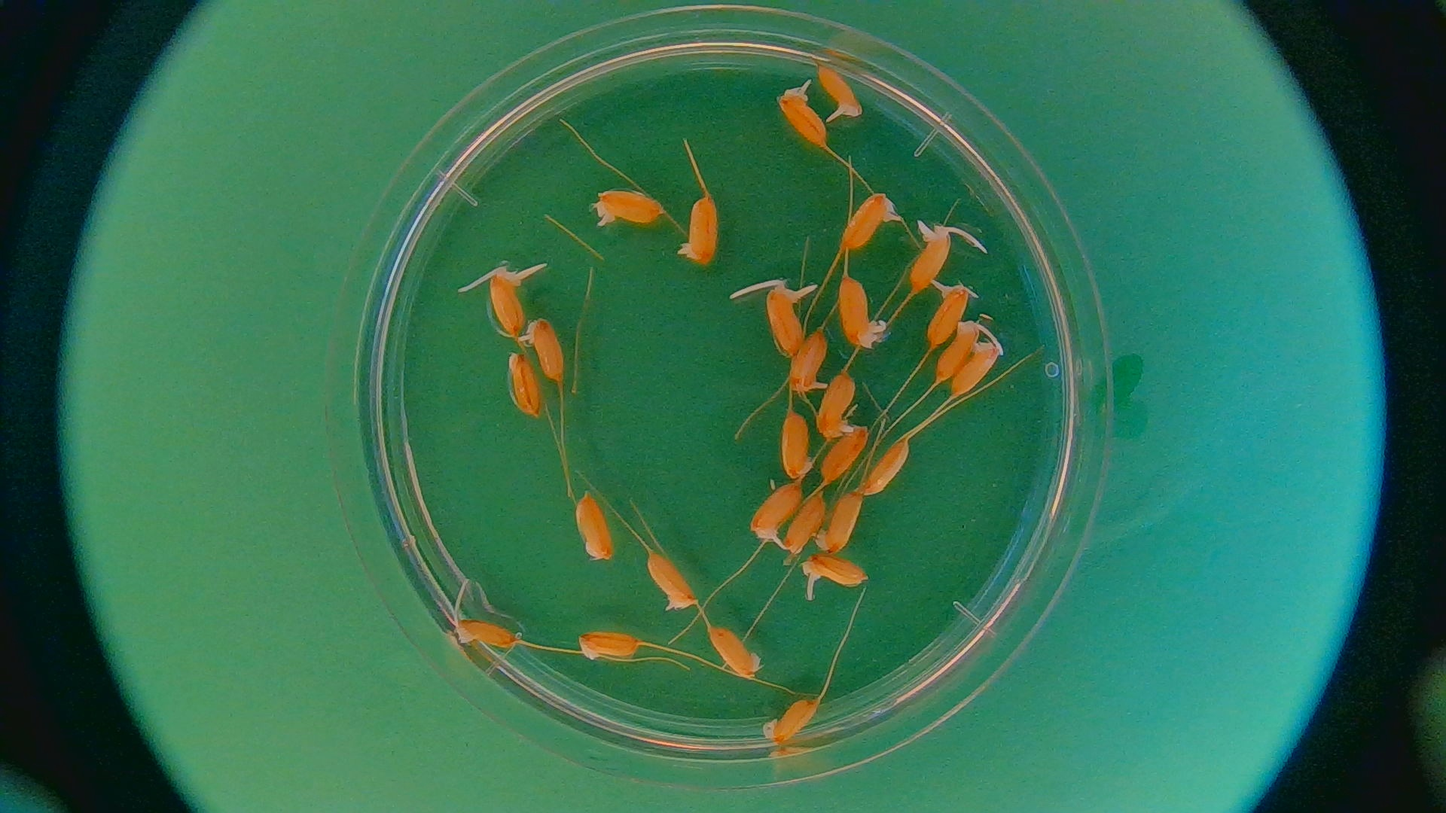no: (820, 422, 869, 489), (575, 489, 616, 560), (679, 193, 718, 267), (815, 492, 862, 552), (862, 438, 911, 495), (708, 626, 761, 676), (953, 342, 1001, 396), (786, 492, 826, 556), (819, 374, 858, 437), (761, 699, 817, 742), (510, 353, 543, 419), (783, 410, 815, 478), (457, 617, 521, 649), (579, 632, 640, 659)
yes: (843, 193, 905, 250), (840, 276, 888, 348), (779, 79, 828, 145), (487, 269, 533, 338), (751, 486, 803, 546), (515, 315, 563, 378), (647, 554, 699, 610), (765, 282, 804, 355), (938, 321, 983, 382), (789, 329, 831, 394), (923, 280, 965, 344), (913, 226, 953, 289), (596, 191, 664, 227), (801, 552, 865, 590), (821, 65, 862, 117)
